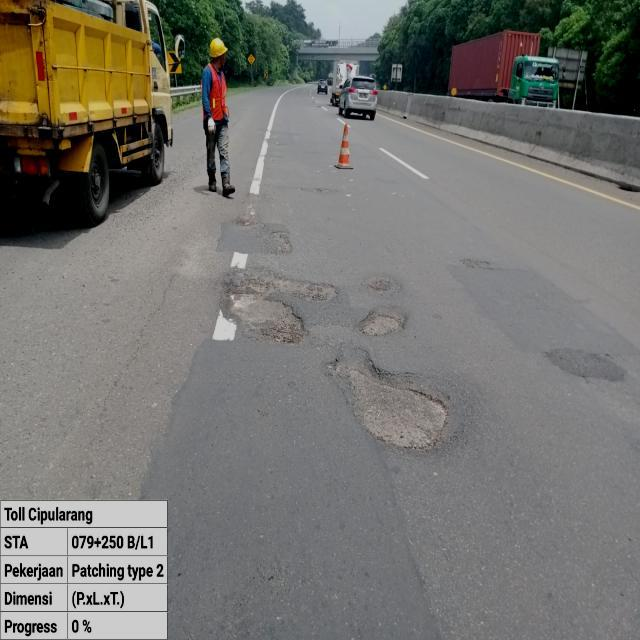Buraco: (321, 344, 460, 454), (217, 265, 341, 347), (356, 304, 410, 338), (359, 273, 405, 299), (269, 229, 296, 255), (229, 212, 261, 228), (613, 182, 640, 194)
